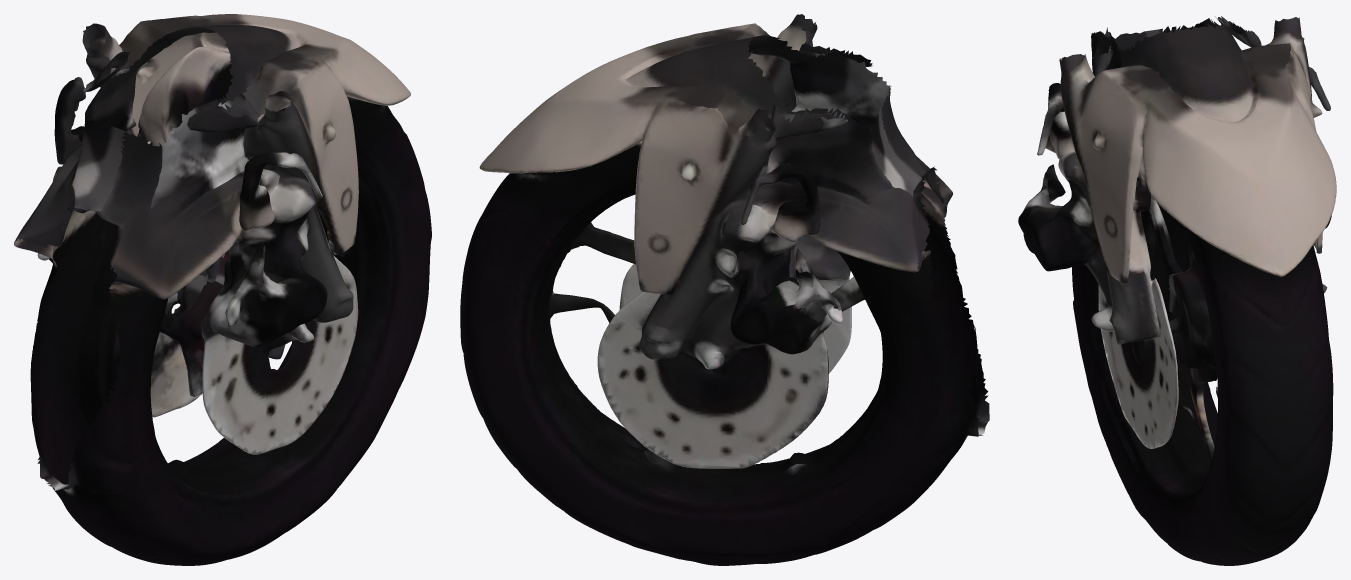
Rendered from blt150_07.obj.
3 renders of one model, left to right at view 1: azimuth 30°, elevation 25°; view 2: azimuth 150°, elevation 25°; view 3: azimuth 270°, elevation 25°, orthographic. The views are drawn at different scales.
Visible parts, largest first — view 1: blt150_07; view 2: blt150_07; view 3: blt150_07.
Boxes of the visible parts, bbox=[...] form: blt150_07: bbox=[14, 14, 431, 565]; blt150_07: bbox=[460, 14, 989, 565]; blt150_07: bbox=[1018, 16, 1336, 565].
Size of the model in its own units: 2.28 by 2.54 by 1.45.
